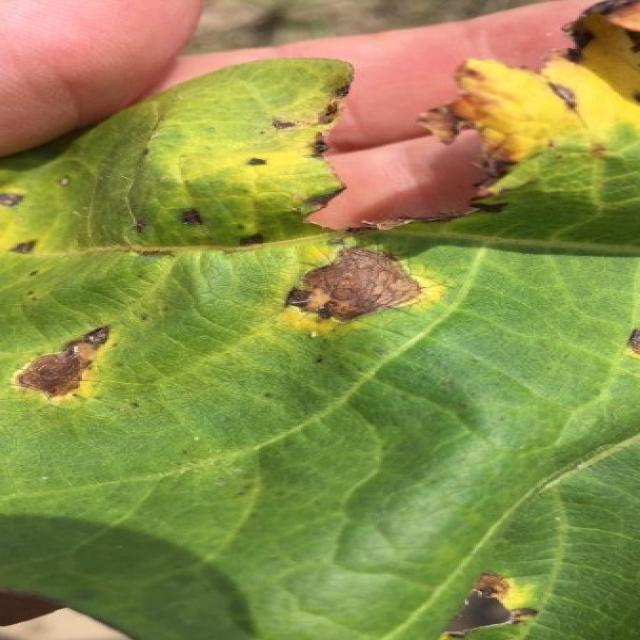Bacterial Blight: (279, 68, 612, 329)
